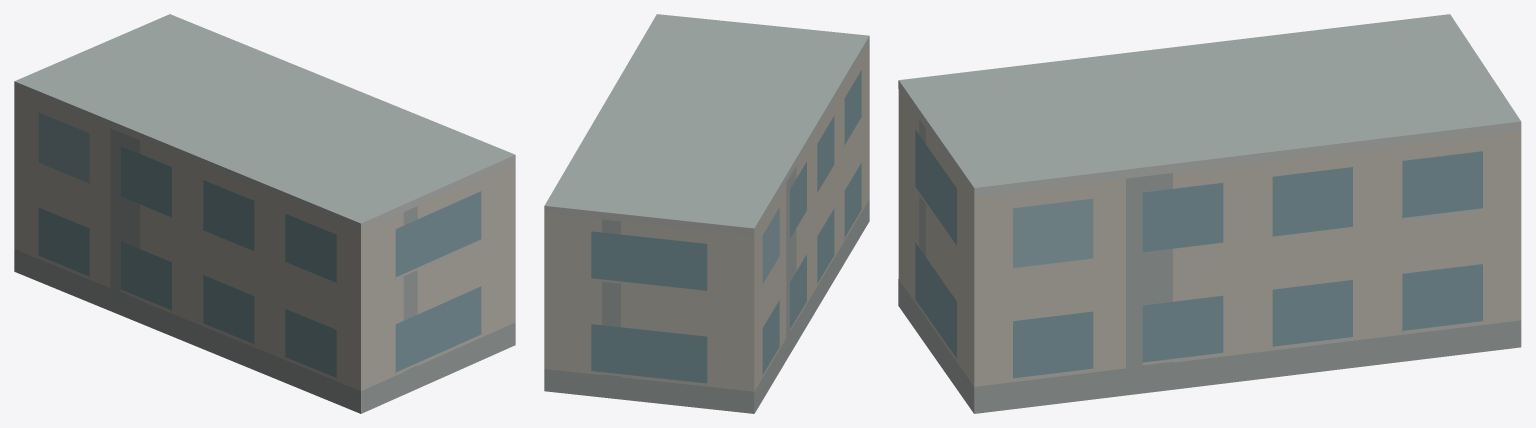
Rendered from survey-upis-32512565.glb.
3 views of the same model, side by side, from view 1: azimuth 30°, elevation 25°; view 2: azimuth 150°, elevation 25°; view 3: azimuth 270°, elevation 25° (orthographic). The views are drawn at different scales.
Visible parts, largest first — view 1: survey-upis-32512565.tmp; view 2: survey-upis-32512565.tmp; view 3: survey-upis-32512565.tmp.
Boxes of the visible parts, x1,y1,x2,y2 form: survey-upis-32512565.tmp: [14, 14, 515, 413]; survey-upis-32512565.tmp: [544, 14, 869, 413]; survey-upis-32512565.tmp: [898, 14, 1521, 413].
Bounding box in the file's own units: 10.09 × 6.1 × 15.26.
